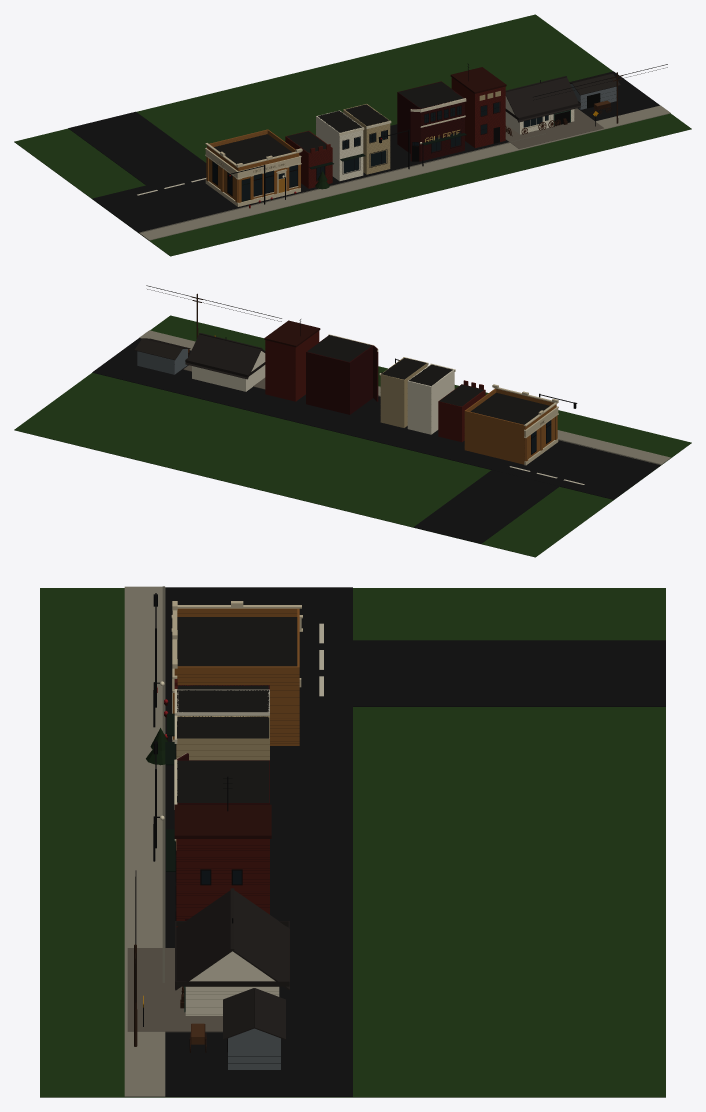
File: RossvilleDowntown.obj
3 renders of one model, top to bottom at view 1: azimuth 30°, elevation 25°; view 2: azimuth 150°, elevation 25°; view 3: azimuth 270°, elevation 25°, orthographic. The views are drawn at different scales.
Visible parts, largest first — view 1: RossvilleDowntown; view 2: RossvilleDowntown; view 3: RossvilleDowntown.
Part boxes in pixels (left/top/right/bottom): RossvilleDowntown: left=14, top=14, right=691, bottom=256; RossvilleDowntown: left=14, top=285, right=691, bottom=557; RossvilleDowntown: left=40, top=586, right=665, bottom=1097.
Size of the model in its own units: 77 by 10.47 by 40.
